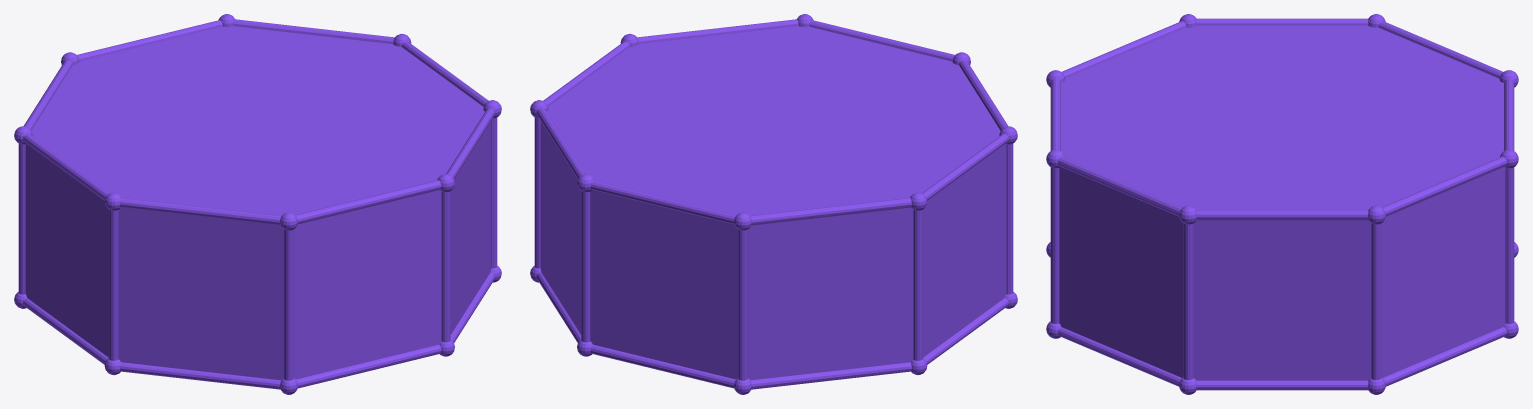
The model's file is PrismaOctagonal.gltf.
3 views of the same model, side by side, from view 1: azimuth 30°, elevation 25°; view 2: azimuth 150°, elevation 25°; view 3: azimuth 270°, elevation 25° (orthographic). The views are drawn at different scales.
Visible parts, largest first — view 1: Prismaoctagonal; view 2: Prismaoctagonal; view 3: Prismaoctagonal.
Boxes of the visible parts, x1,y1,x2,y2 form: Prismaoctagonal: (14,14,501,394); Prismaoctagonal: (530,14,1017,394); Prismaoctagonal: (1046,14,1518,394).
Bounding box in the file's own units: 18.66 × 8.17 × 18.66.
